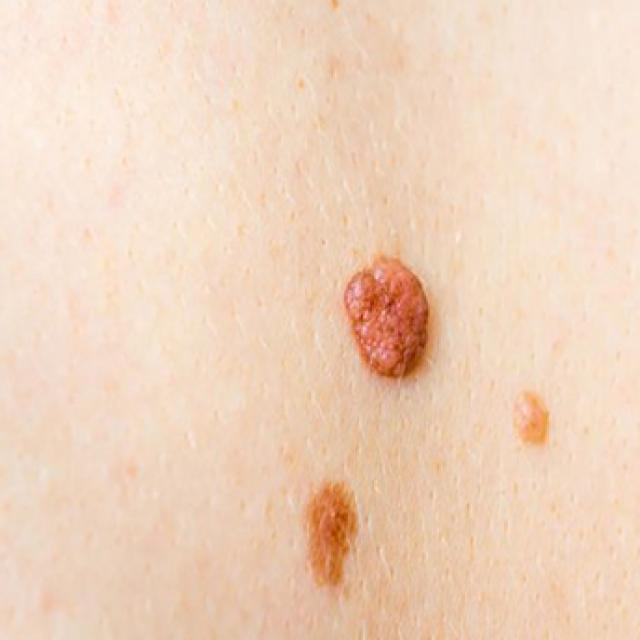wart: (340, 246, 440, 380)
